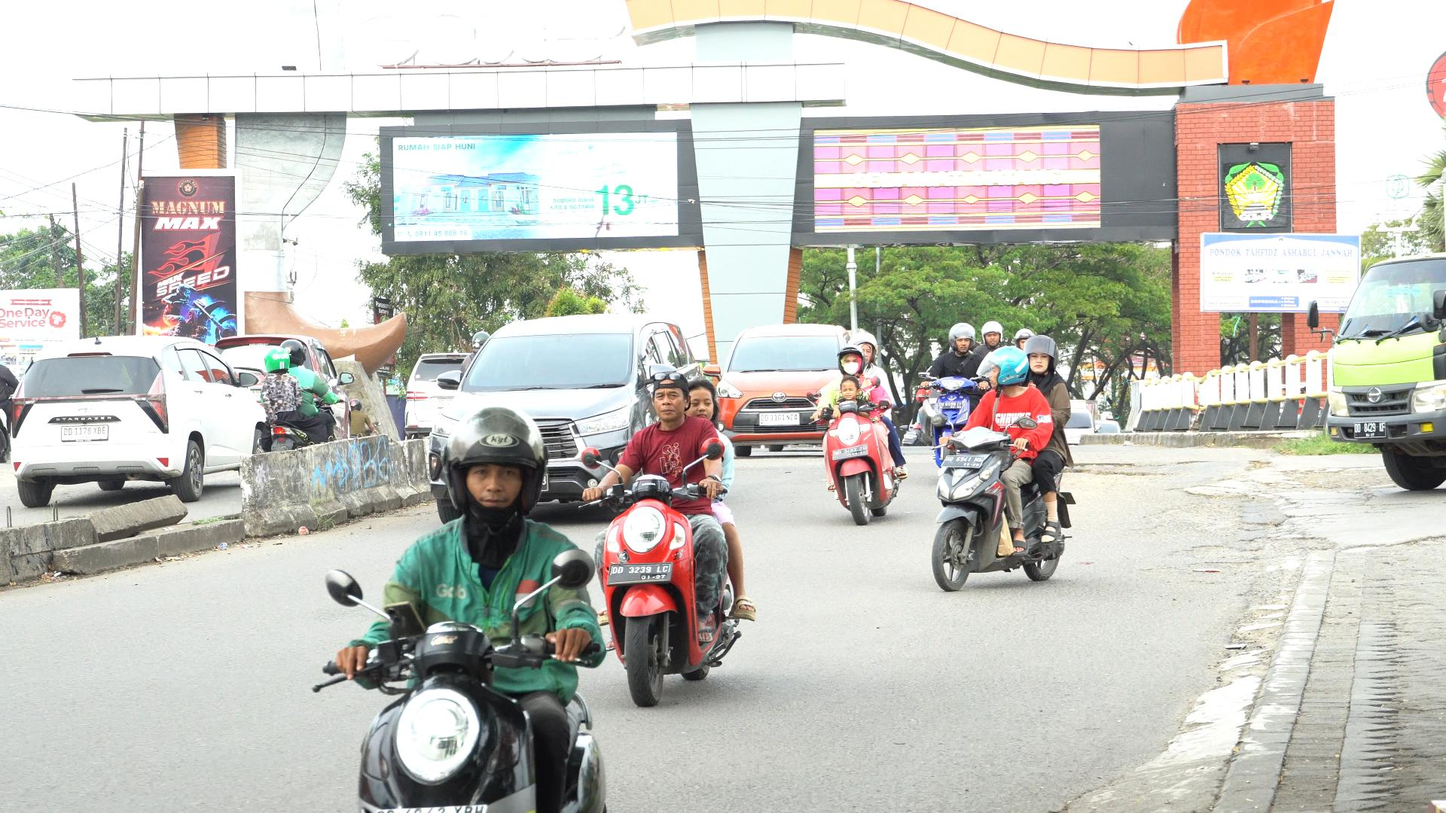number-plate: (609, 563, 670, 582)
